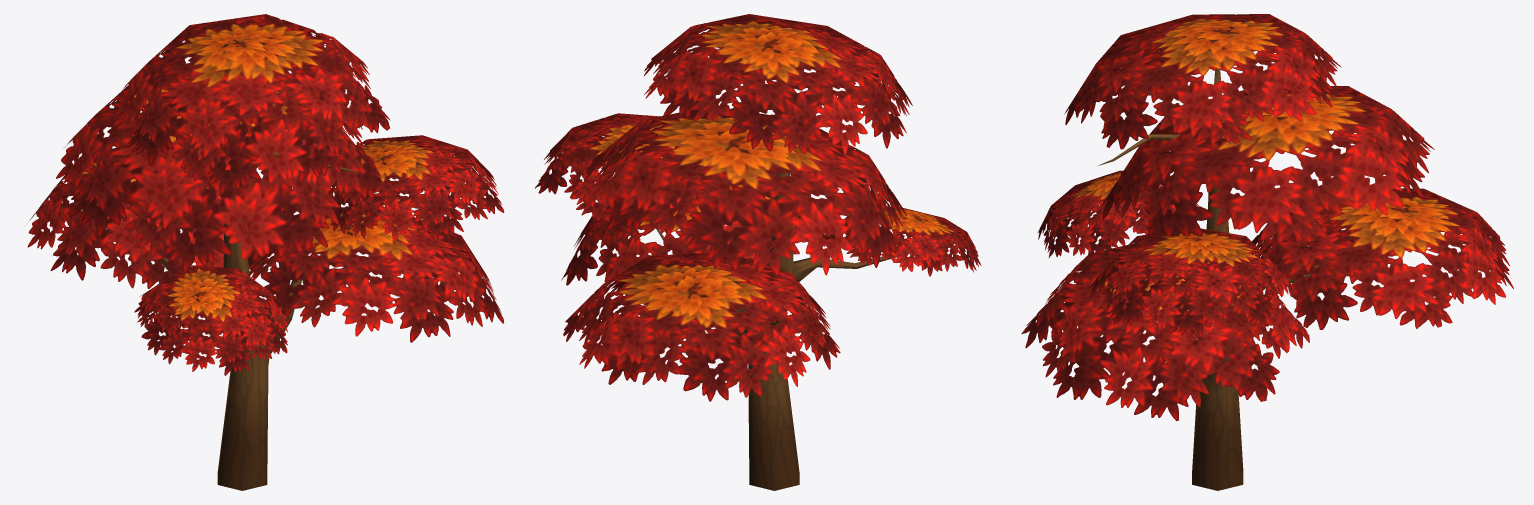
File: Tree5B.glb
The picture shows the model from 3 angles, left to right: view 1: azimuth 30°, elevation 25°; view 2: azimuth 150°, elevation 25°; view 3: azimuth 270°, elevation 25°; orthographic projection. The views are drawn at different scales.
Visible parts, largest first — view 1: Tree_05b; view 2: Tree_05b; view 3: Tree_05b.
Boxes of the visible parts, bbox=[...] form: Tree_05b: bbox=[27, 14, 504, 490]; Tree_05b: bbox=[535, 14, 981, 490]; Tree_05b: bbox=[1021, 14, 1513, 490].
Size of the model in its own units: 94.65 by 100 by 102.
1 material, 1 textured.
